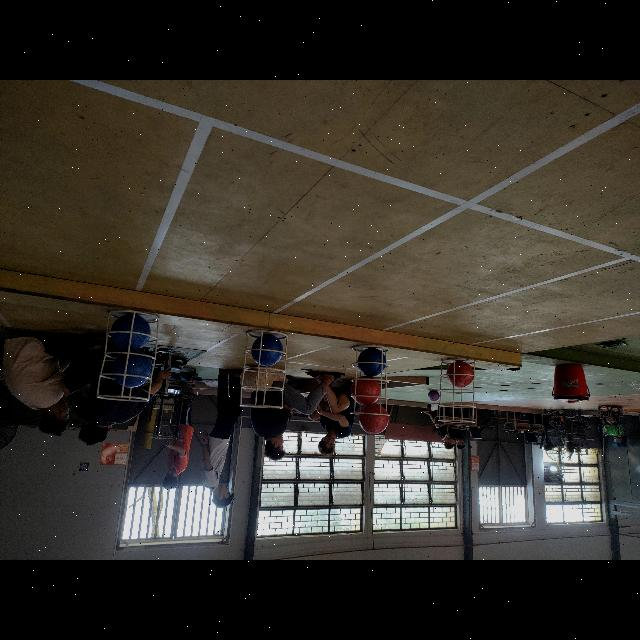B: (112, 352, 152, 388), (110, 316, 150, 350), (252, 334, 284, 366), (358, 348, 387, 377)
R: (351, 376, 381, 406), (358, 405, 388, 435), (446, 360, 474, 388)
